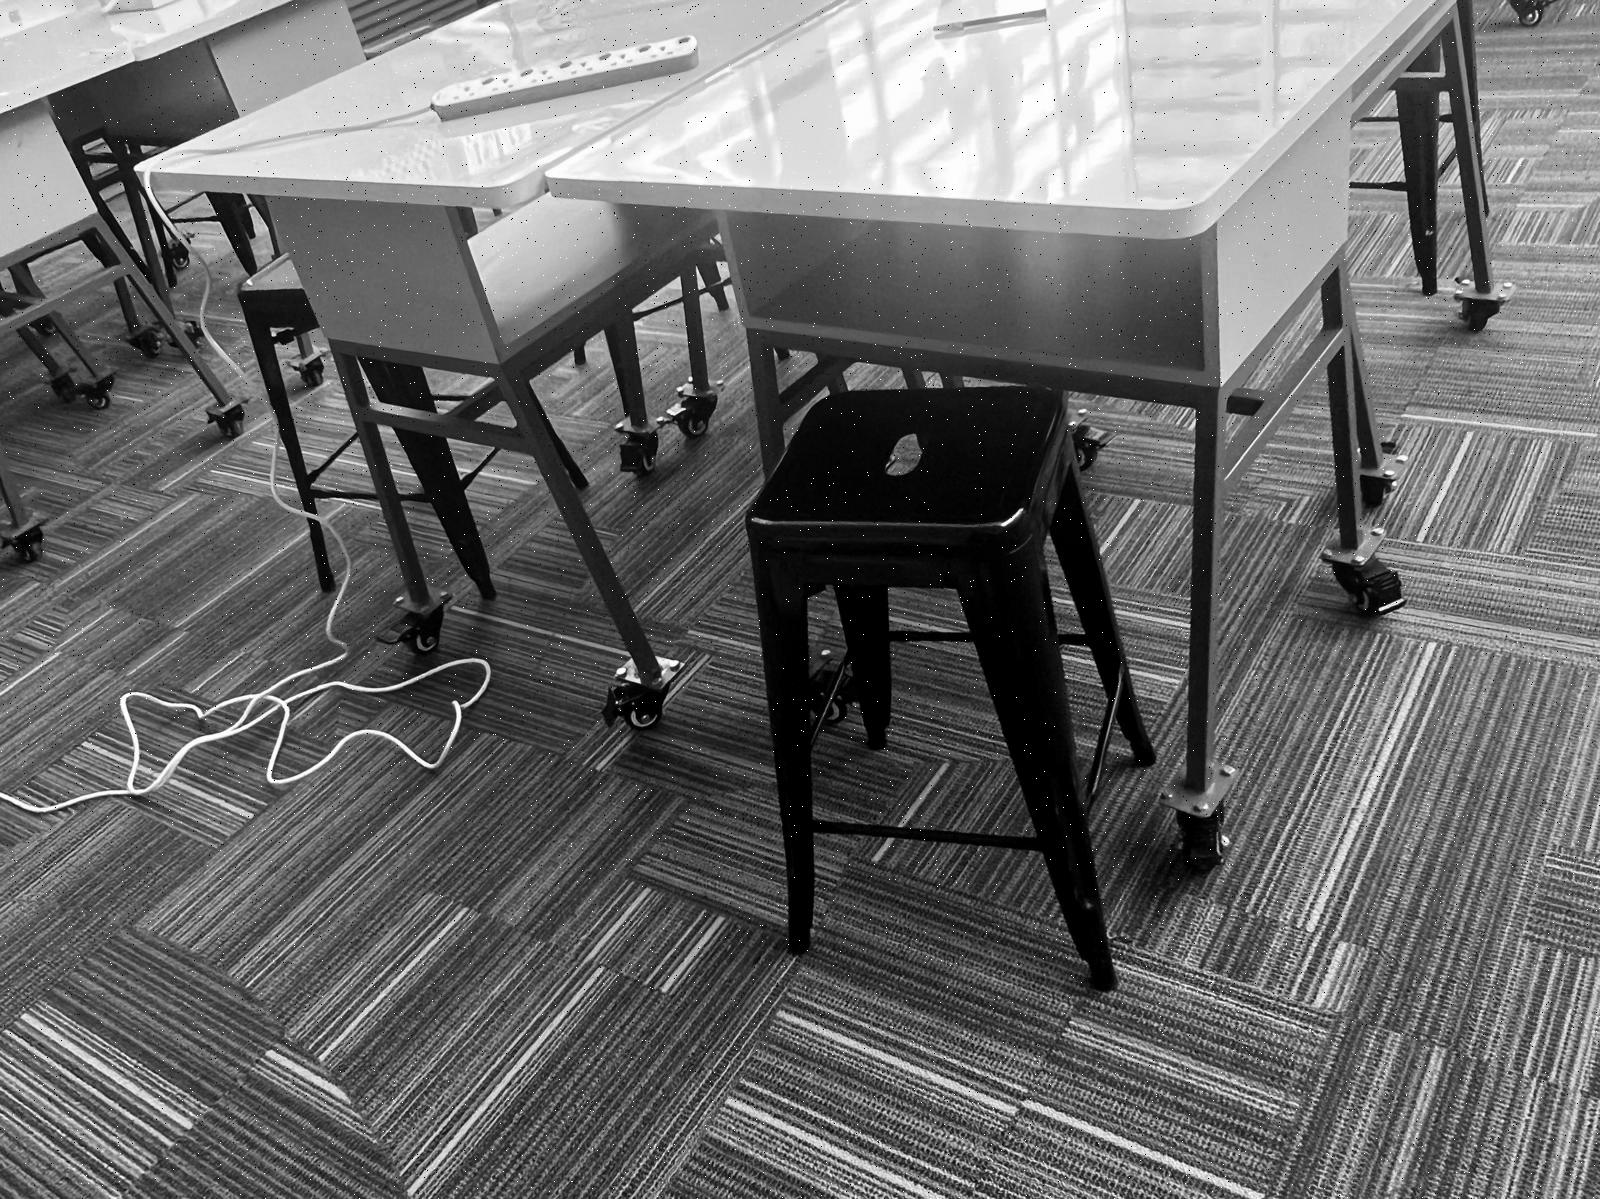Chair: (746, 387, 1156, 989), (238, 254, 375, 514), (399, 433, 497, 594), (308, 523, 334, 589), (295, 349, 324, 385)
Table: (147, 0, 1514, 868)
